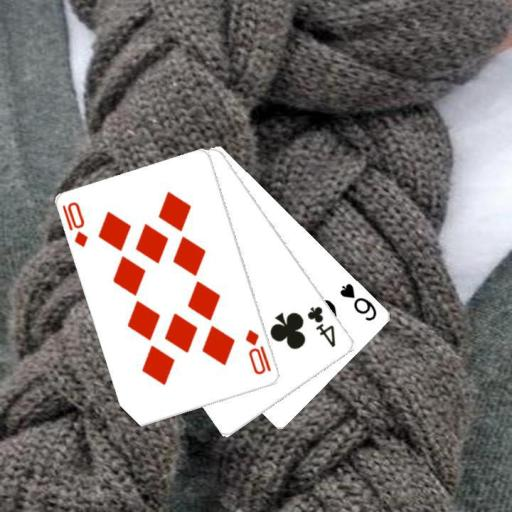10D: (59, 198, 90, 249), (243, 326, 273, 377)
4C: (304, 303, 338, 349)
6S: (337, 280, 379, 323)
